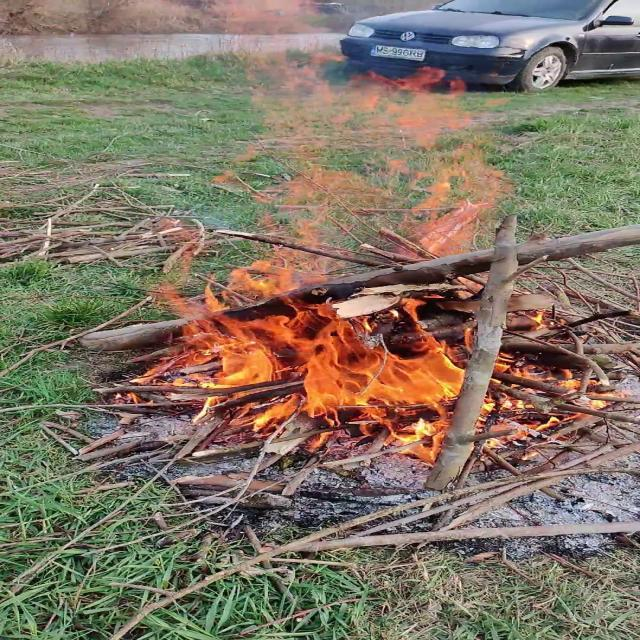Fire: (94, 81, 610, 456)
